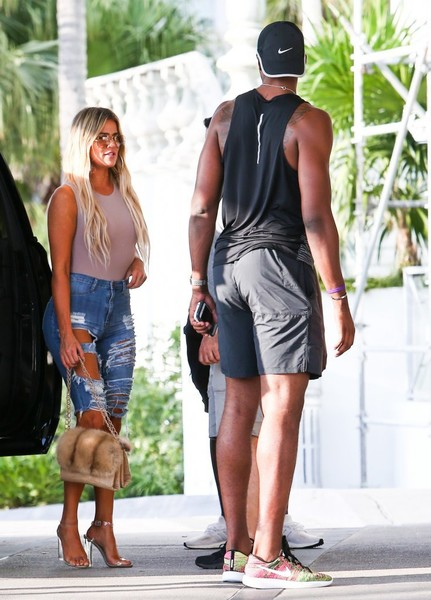Person: (188, 27, 351, 587), (49, 99, 149, 563)
